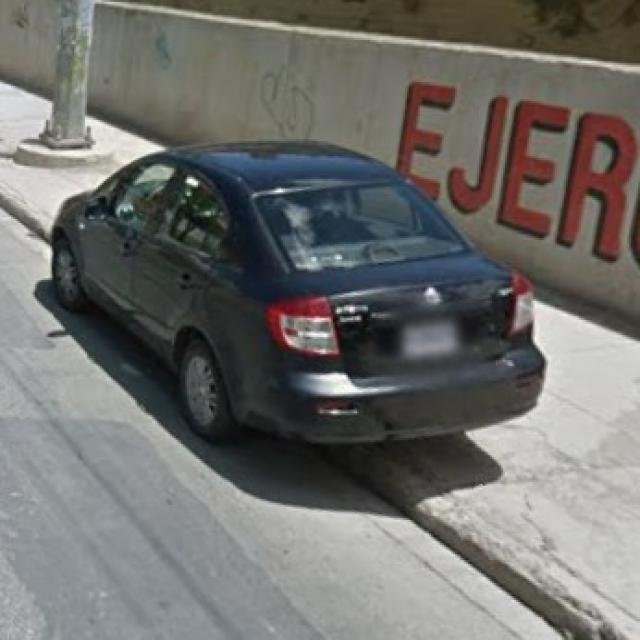cars: (46, 102, 552, 475)
